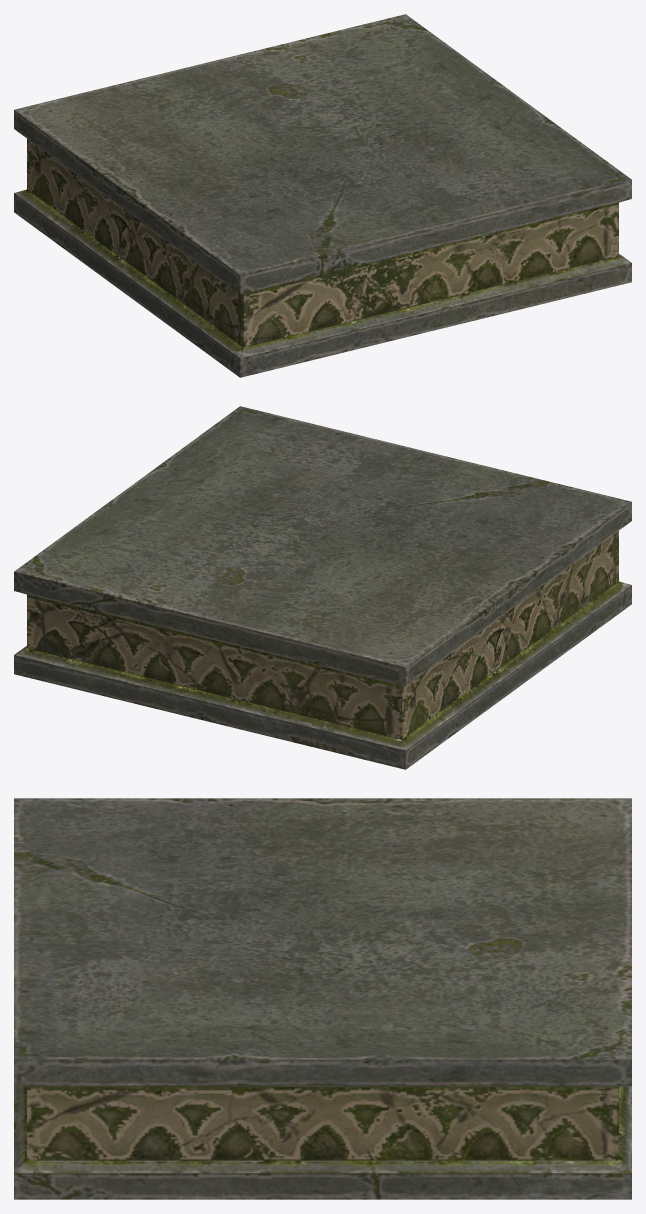
Rendered from bg_lut_lutomb_border01_sm_old.FBX.
The picture shows the model from 3 angles, top to bottom: view 1: azimuth 30°, elevation 25°; view 2: azimuth 150°, elevation 25°; view 3: azimuth 270°, elevation 25°; orthographic projection. The views are drawn at different scales.
Visible parts, largest first — view 1: bg_lut_lutomb_border01_sm_old; view 2: bg_lut_lutomb_border01_sm_old; view 3: bg_lut_lutomb_border01_sm_old.
Part boxes in pixels (left/top/right/bottom): bg_lut_lutomb_border01_sm_old: left=14, top=14, right=631, bottom=377; bg_lut_lutomb_border01_sm_old: left=14, top=406, right=631, bottom=769; bg_lut_lutomb_border01_sm_old: left=14, top=798, right=631, bottom=1199.
Size of the model in its own units: 64 by 16 by 64.
